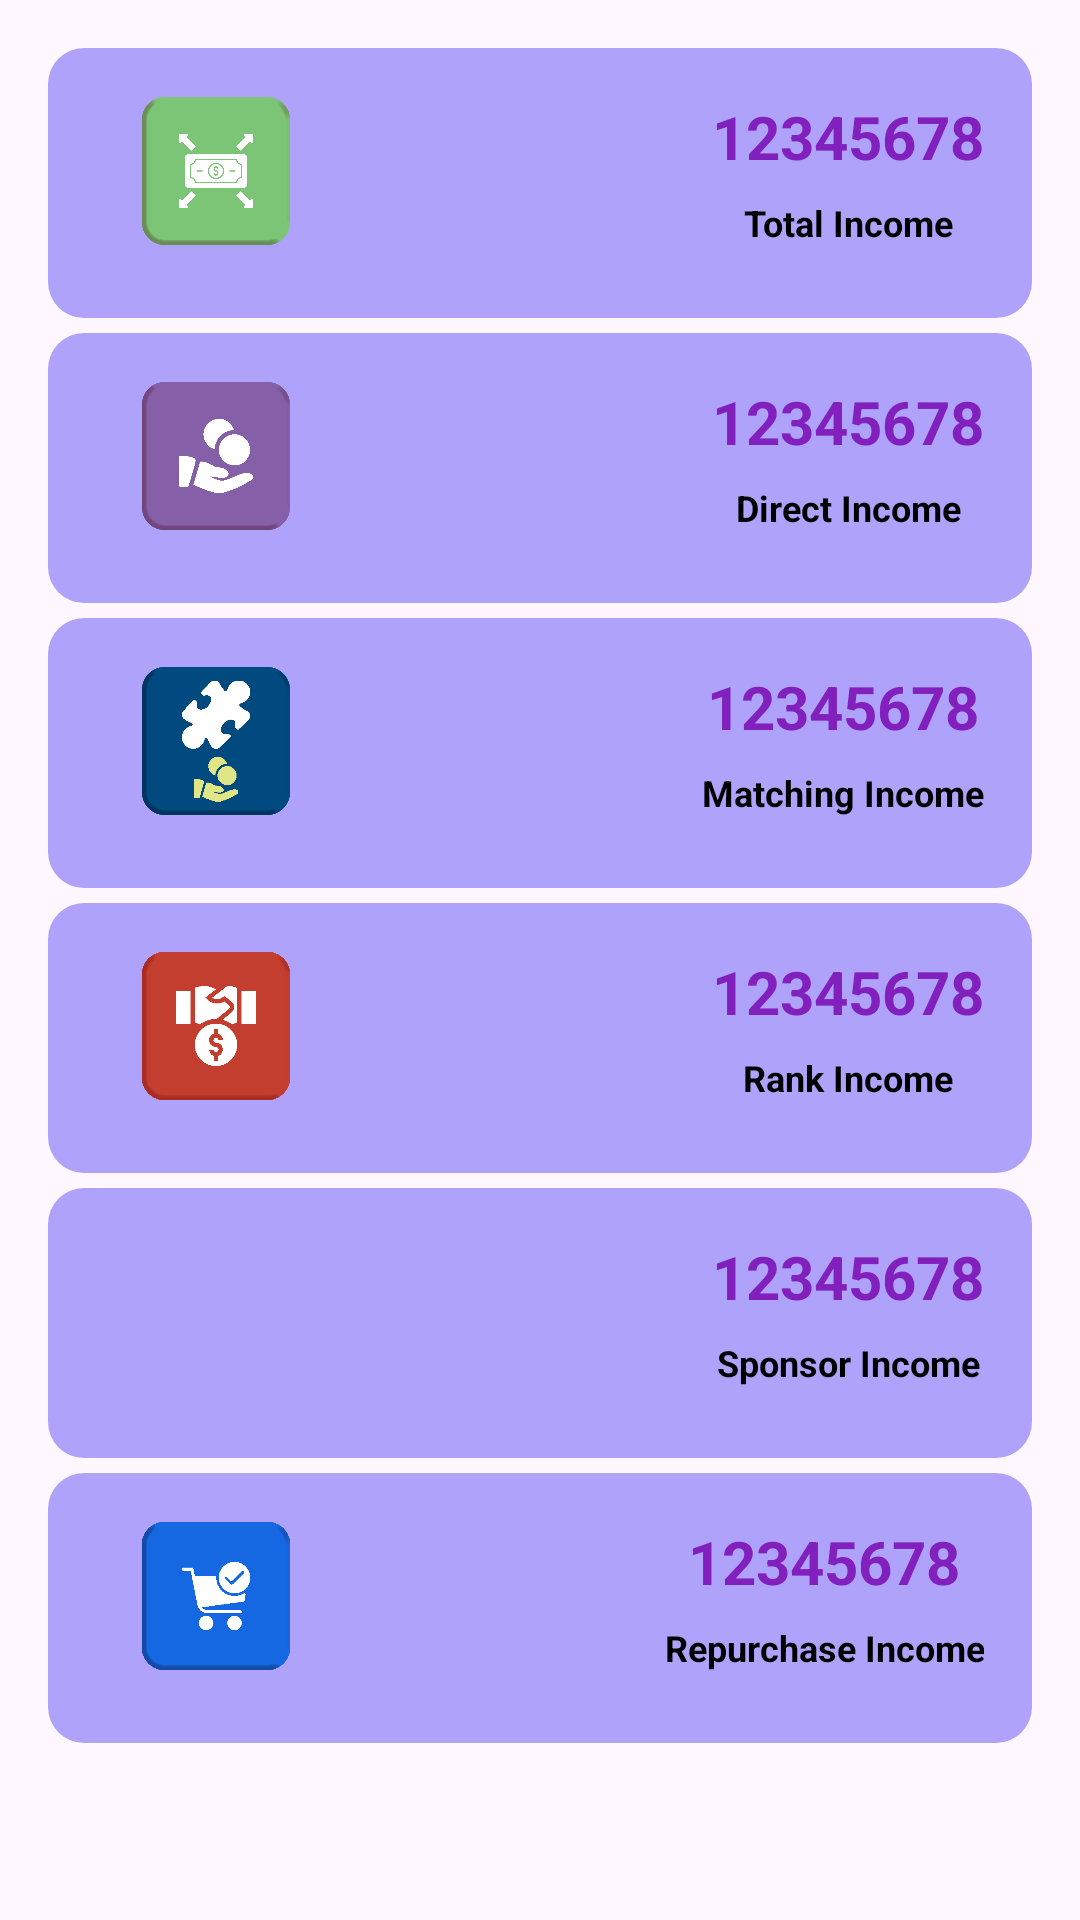

Screen size 1080 x 1920. Icon name, then its center in pixels as (x,y):
direct income: (216,456)
matching income: (216,741)
rank income: (216,1026)
repurchase income: (216,1596)
total income: (216,171)
